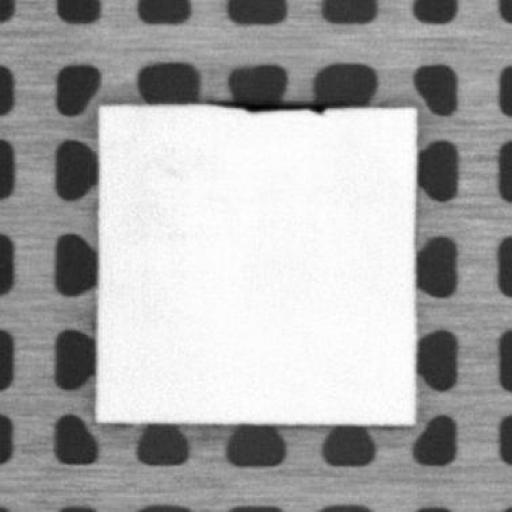DIE_BROKEN: (208, 98, 338, 114)
